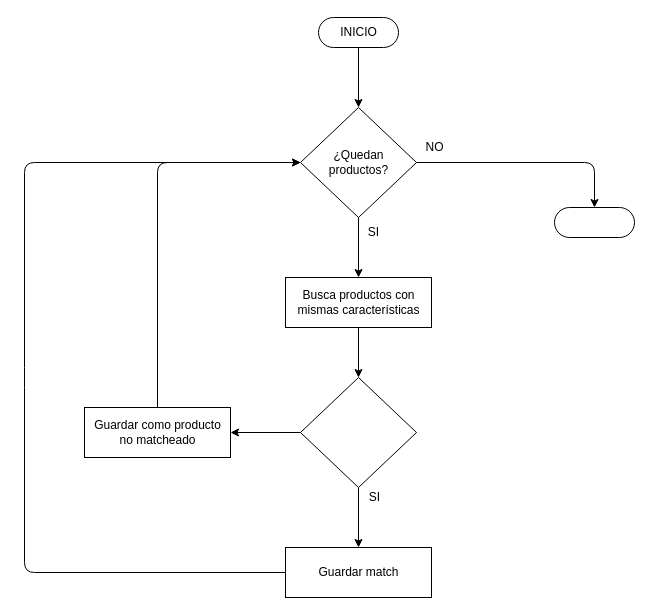
The diagram is 652 pixels wide and 615 high, and some of its shapes have lost their labels. The shapes that lost their labels are listed below. From the top down, each one's centre as x and y in pixels, then its label:
pixel 594 222: FIN
pixel 358 432: ¿Encuentra?
